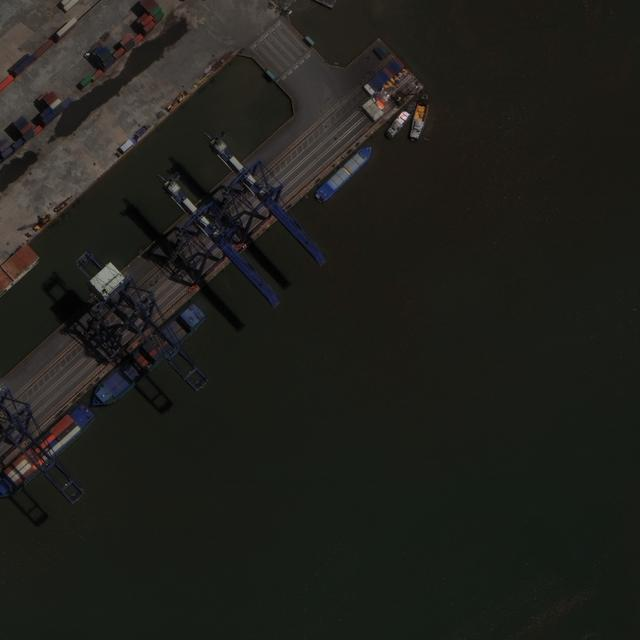Cargo: (312, 142, 376, 206)
Container Ship: (85, 300, 210, 414), (1, 405, 96, 503)
Other Ship: (383, 96, 422, 142), (406, 91, 435, 145)
